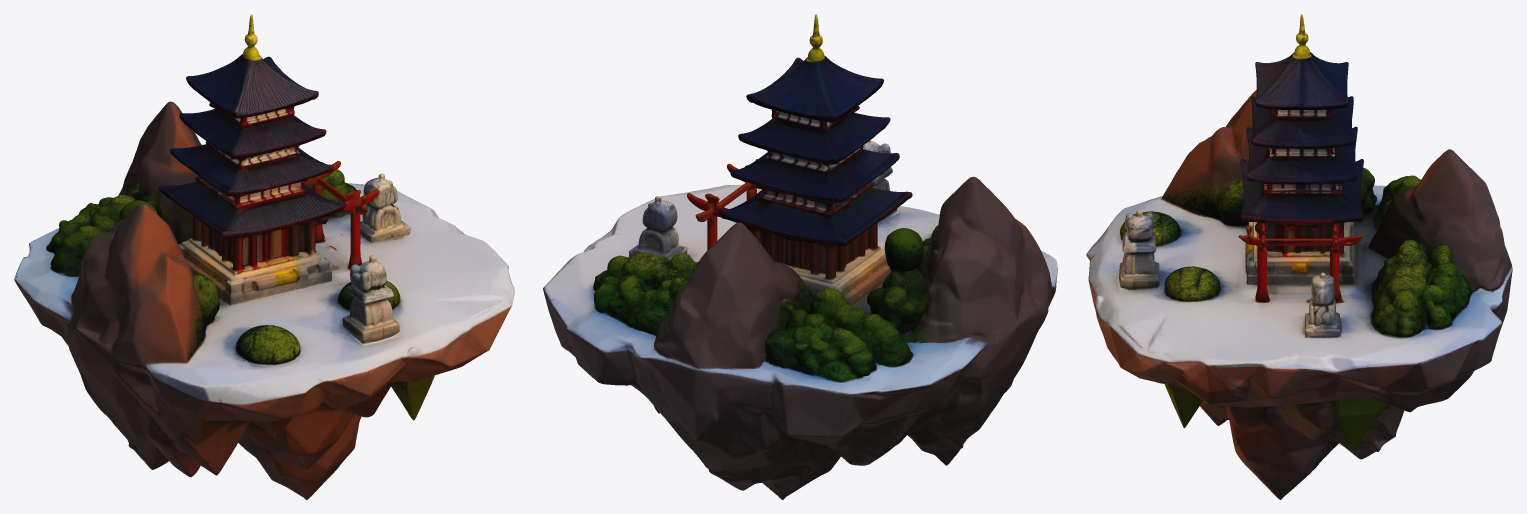
Rendered from pagoda.glb.
3 views of the same model, side by side, from view 1: azimuth 30°, elevation 25°; view 2: azimuth 150°, elevation 25°; view 3: azimuth 270°, elevation 25° (orthographic). The views are drawn at different scales.
Parts seen in each view (by area): view 1: tripo_node_3f8504f5-fbb4-42e1-a836-8148d3065349; view 2: tripo_node_3f8504f5-fbb4-42e1-a836-8148d3065349; view 3: tripo_node_3f8504f5-fbb4-42e1-a836-8148d3065349.
Boxes of the visible parts, x1=… form: tripo_node_3f8504f5-fbb4-42e1-a836-8148d3065349: x1=14, y1=14, x2=514, y2=499; tripo_node_3f8504f5-fbb4-42e1-a836-8148d3065349: x1=543, y1=14, x2=1057, y2=499; tripo_node_3f8504f5-fbb4-42e1-a836-8148d3065349: x1=1086, y1=14, x2=1512, y2=499.
Bounding box in the file's own units: 0.8531 × 1 × 0.83.
1 material, 1 textured.
